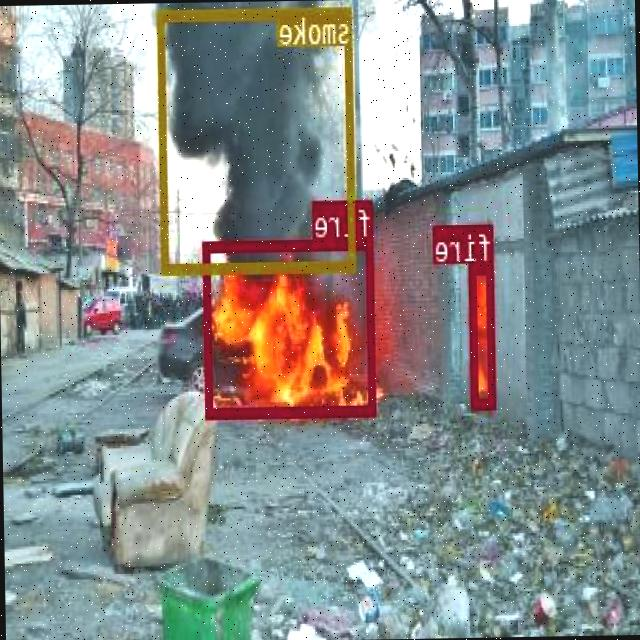fire: (204, 236, 377, 417), (469, 261, 496, 407)
smoke: (158, 5, 358, 273)
